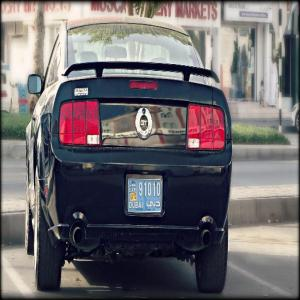Vehicle-registration-plate: (125, 172, 165, 224)
